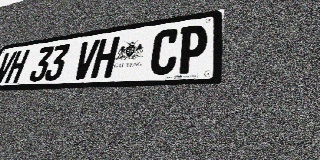3: (43, 43, 71, 81), (28, 46, 55, 82)
C: (148, 28, 180, 76)
H: (90, 36, 120, 79), (4, 49, 30, 83)
P: (176, 24, 208, 74)
V: (71, 39, 100, 80), (0, 51, 18, 84)
